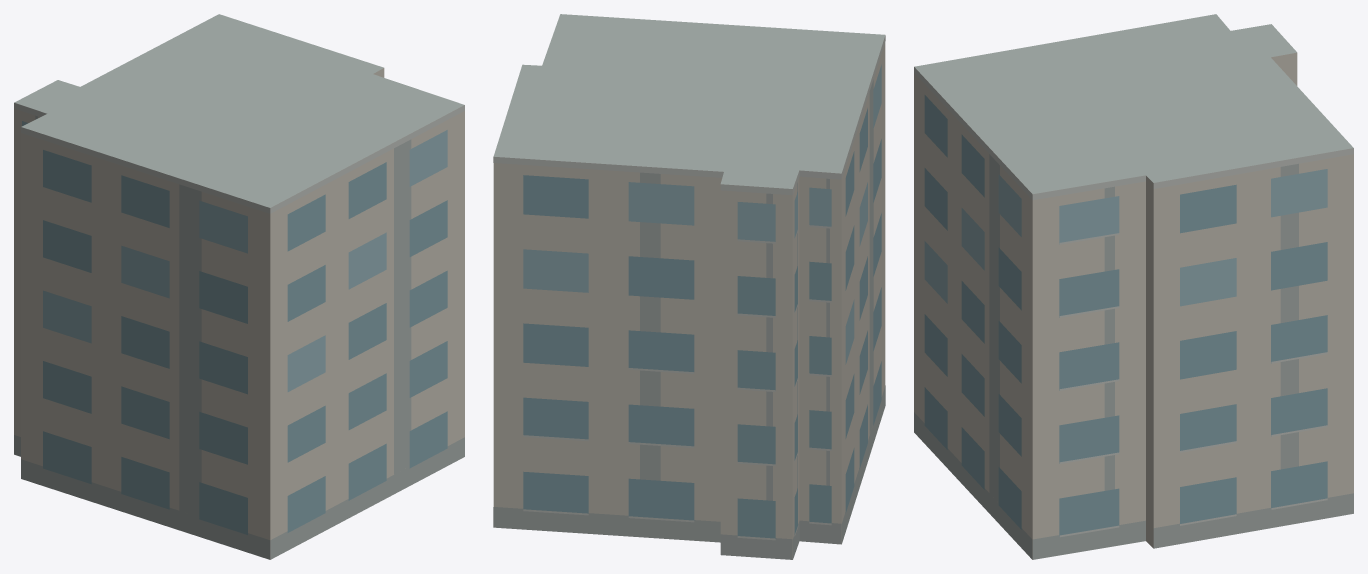
File: survey-upis-32829054.glb
3 renders of one model, left to right at view 1: azimuth 30°, elevation 25°; view 2: azimuth 150°, elevation 25°; view 3: azimuth 270°, elevation 25°, orthographic. The views are drawn at different scales.
Visible parts, largest first — view 1: survey-upis-32829054.tmp; view 2: survey-upis-32829054.tmp; view 3: survey-upis-32829054.tmp.
Part boxes in pixels (x1,y1,x2,y2): survey-upis-32829054.tmp: (14,14,464,559); survey-upis-32829054.tmp: (493,14,885,559); survey-upis-32829054.tmp: (914,14,1353,559).
Bounding box in the file's own units: 15.39 × 14.55 × 15.87.
